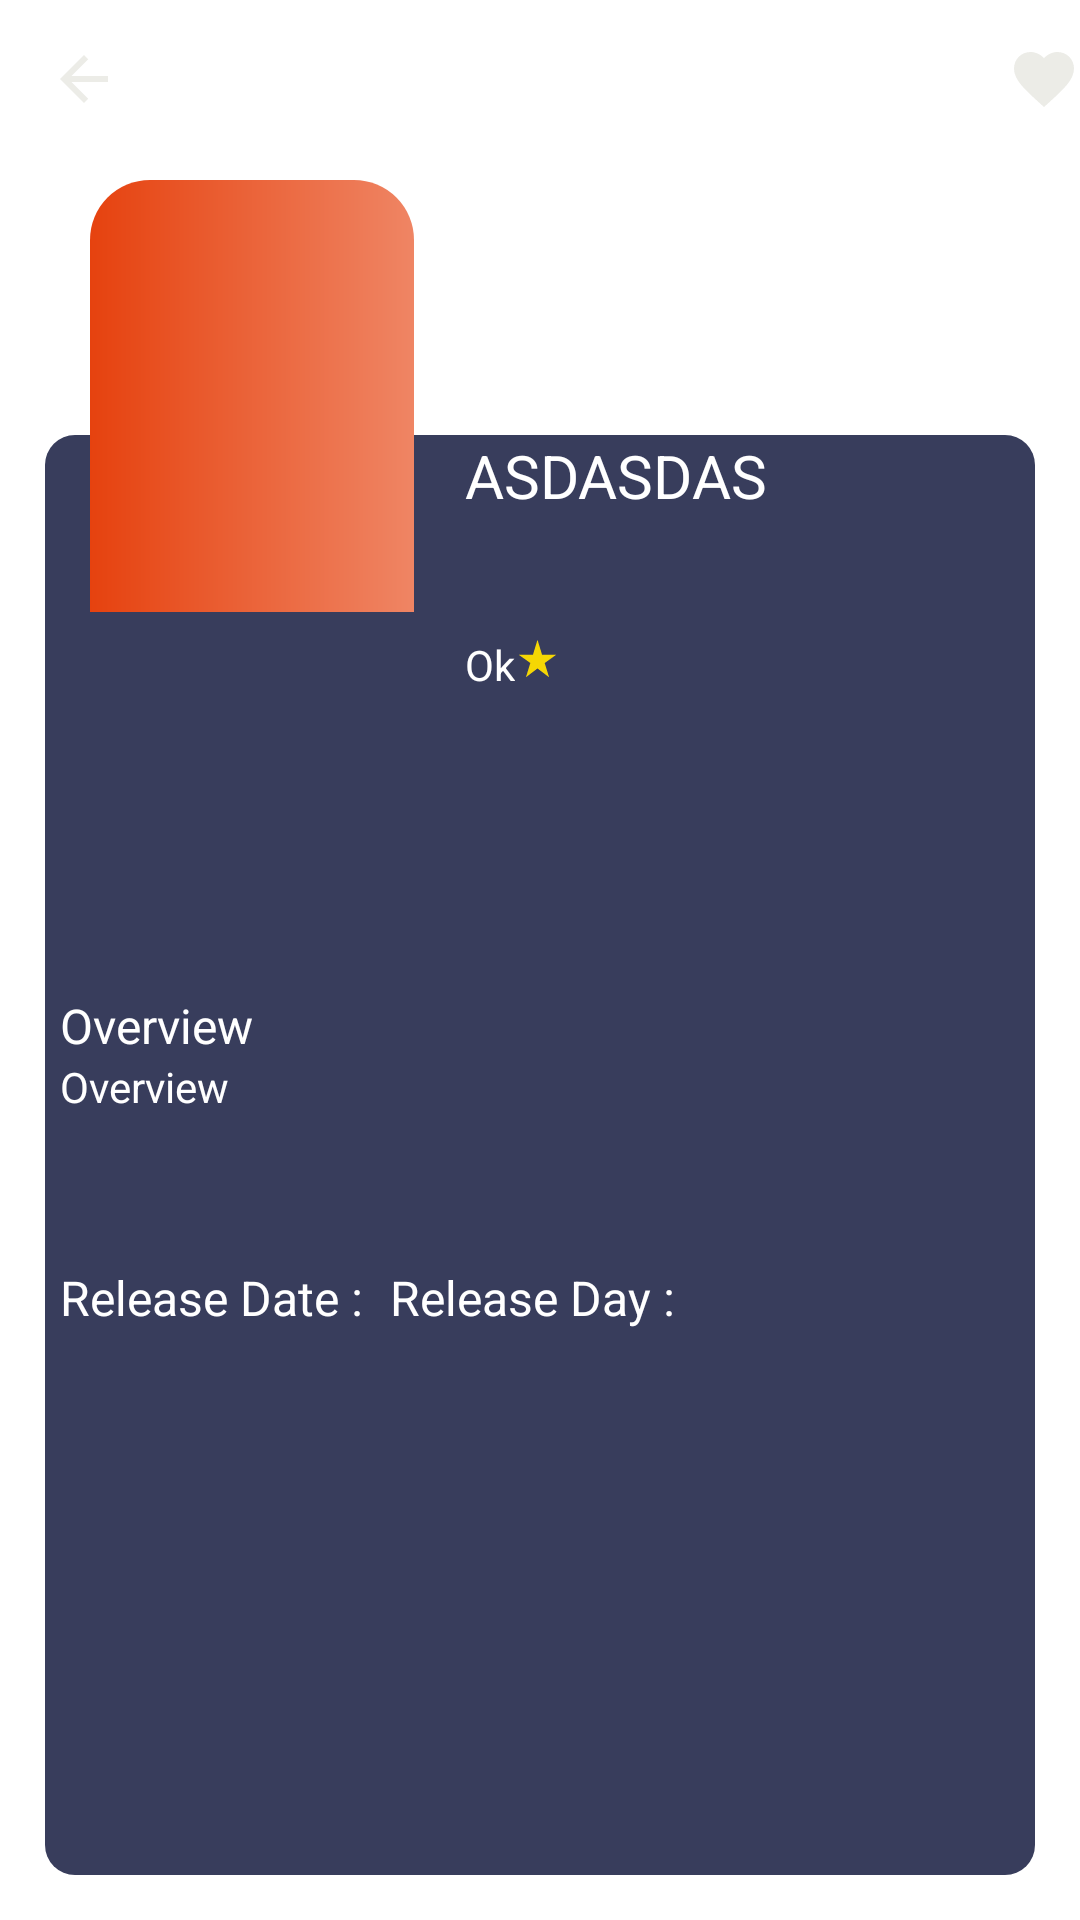

Screen size 1080×1920. Icon name, then its box in pixels as Rect(x1, y1, x2, y2):
star rate: Rect(519, 640, 556, 677)
